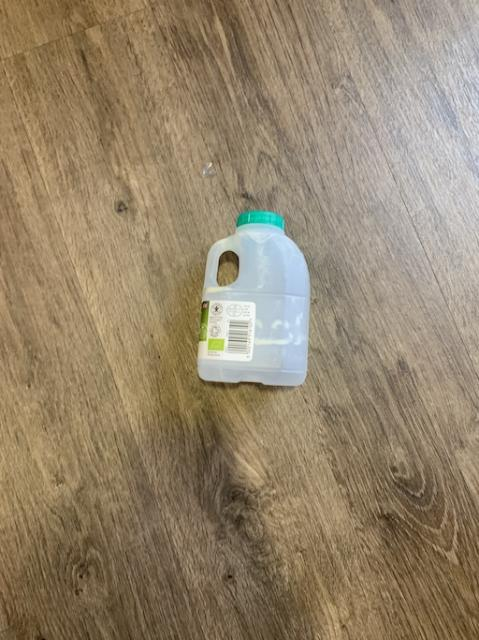plastic: (197, 210, 308, 383)
